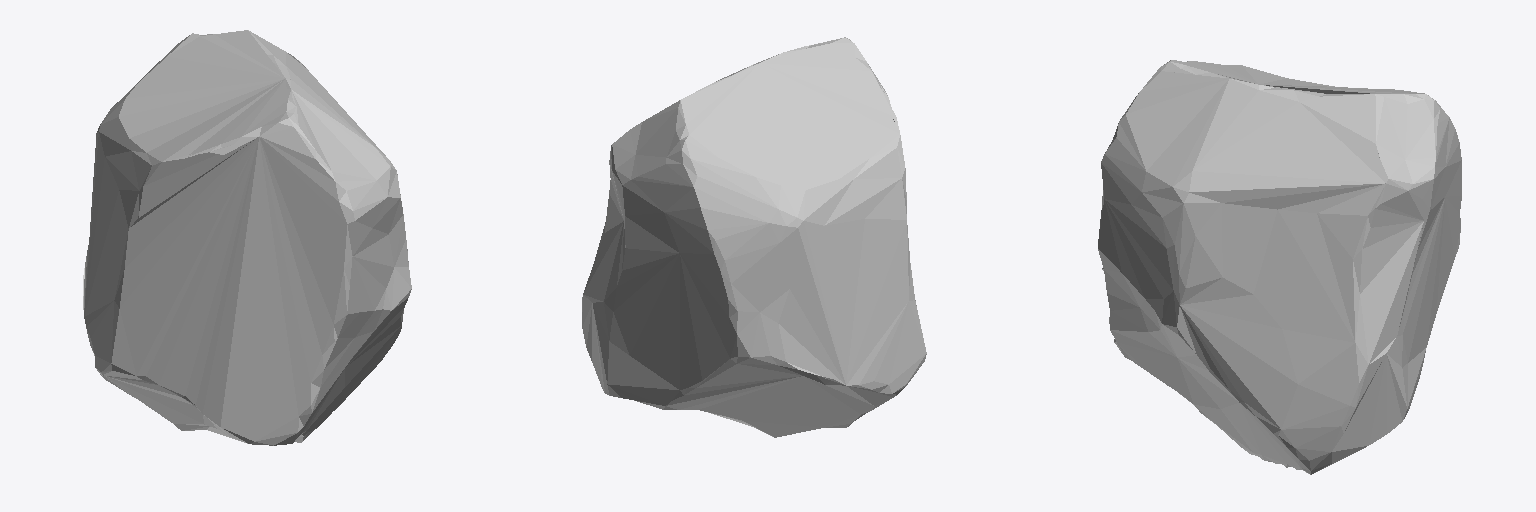
File: Rock2.obj
3 renders of one model, left to right at view 1: azimuth 30°, elevation 25°; view 2: azimuth 150°, elevation 25°; view 3: azimuth 270°, elevation 25°, orthographic.
Visible parts, largest first — view 1: Cube; view 2: Cube; view 3: Cube.
Boxes of the visible parts, x1,y1,x2,y2 form: Cube: [83, 30, 411, 445]; Cube: [582, 37, 926, 437]; Cube: [1098, 60, 1461, 474].
Bounding box in the file's own units: 1.48 × 1.71 × 1.54.